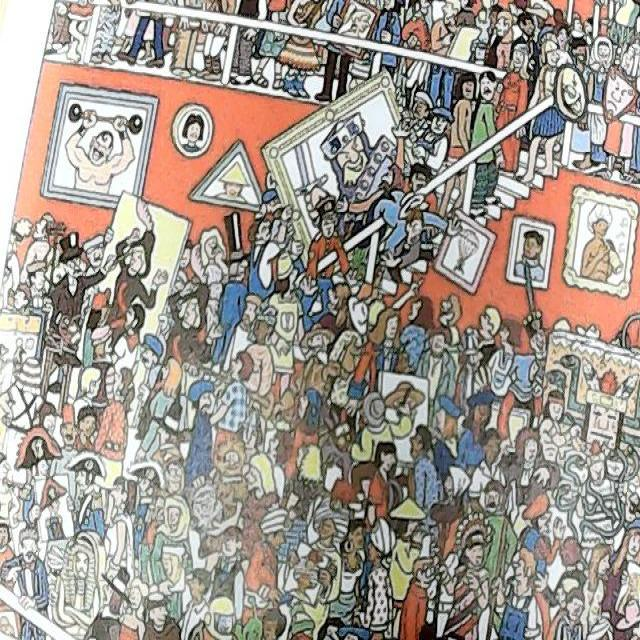waldo: (158, 447, 186, 494)
